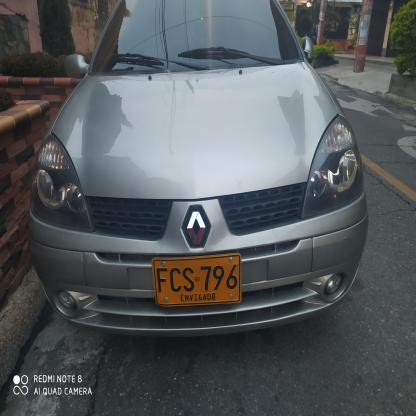placa: (146, 247, 245, 310)
